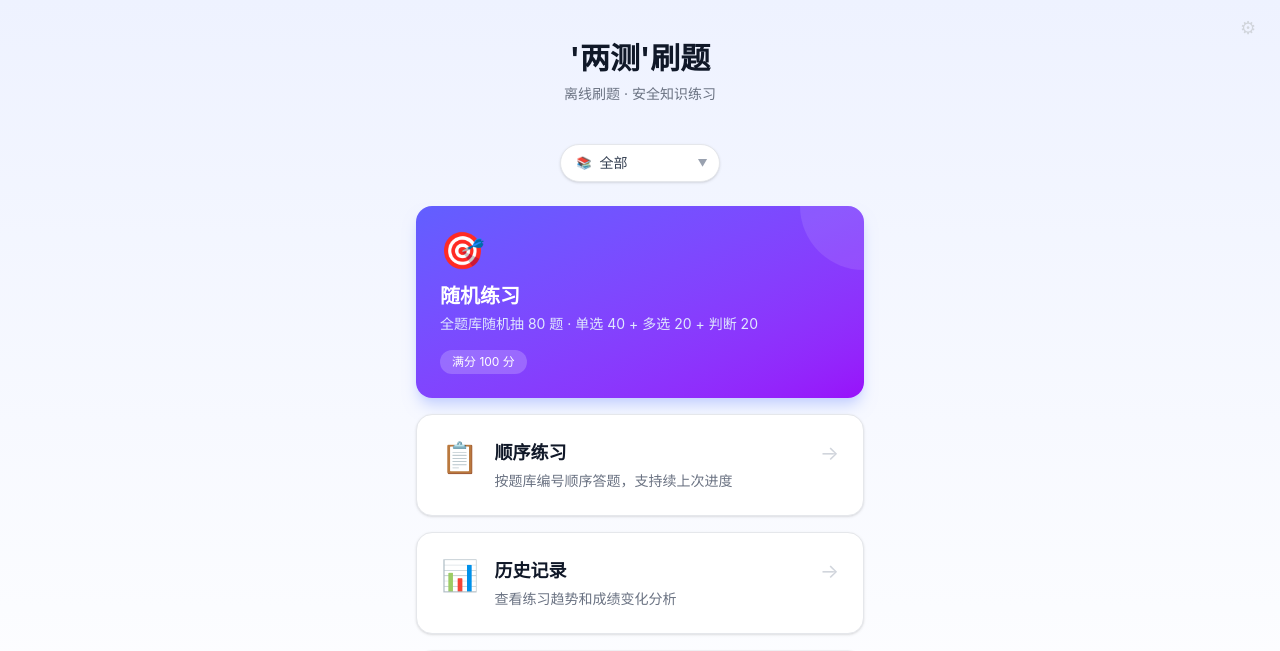
管理面板分类统计 › 题库重置弹窗显示更新后的前置规则
打开管理面板 → 点击题库重置
Click the button named "题库管理".
click(1248, 28)  # box [1232,12,1264,44]
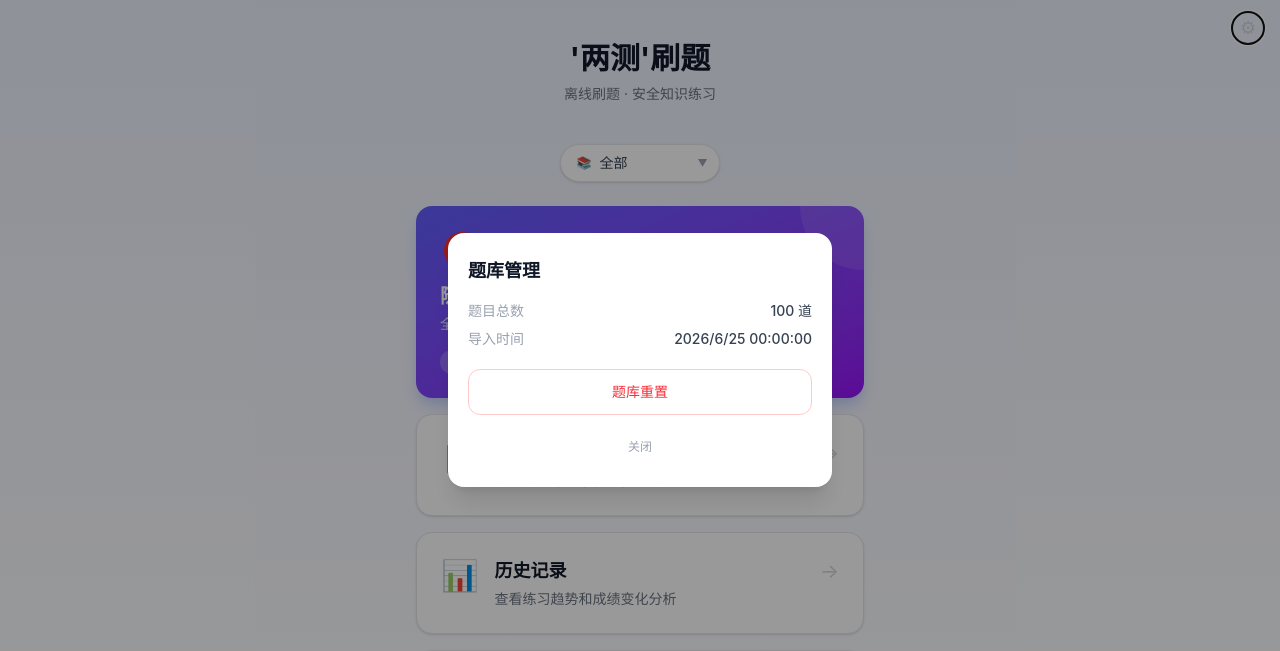
Click the button "题库重置".
click(640, 392)  # box [468,369,812,415]
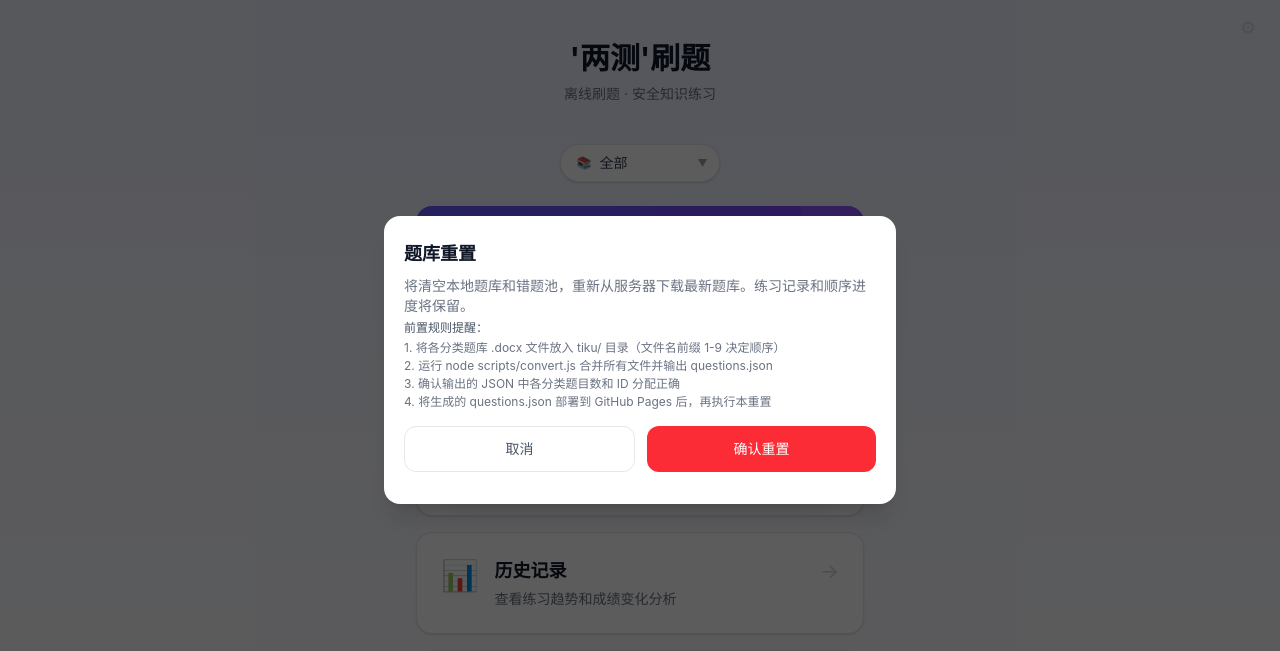
Now the text "1. 将各分类题库 .docx 文件放入 tiku/ 目录（文件名前缀 1-9 决定顺序）" is shown, box [404,340,785,355]
Now the text "2. 运行 node scripts/convert.js 合并所有文件并输出 questions.json" is shown, box [404,358,773,373]
